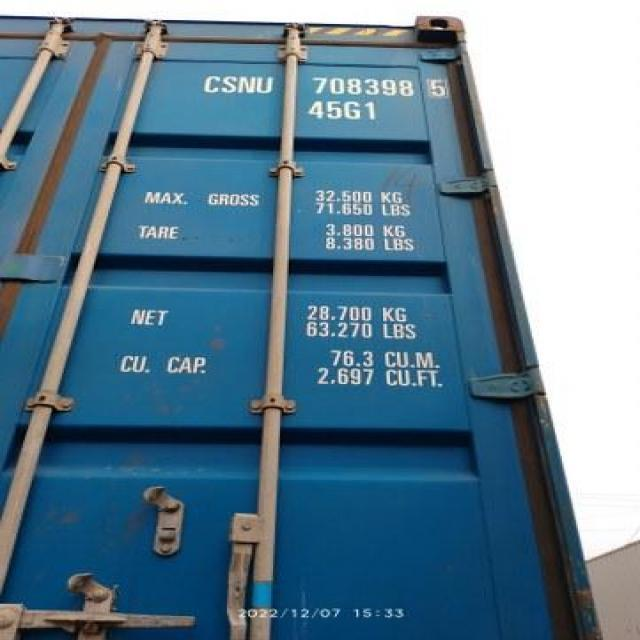ISO: (314, 99, 379, 122)
container_number: (196, 67, 447, 99)
